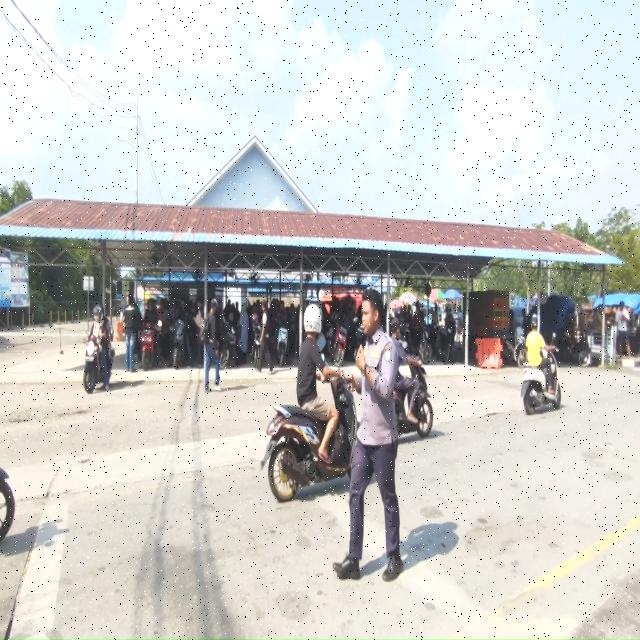Golongan II: (260, 379, 358, 502), (521, 333, 561, 415), (394, 365, 433, 438), (83, 334, 113, 394), (560, 332, 591, 367), (141, 321, 162, 372), (503, 326, 526, 368), (219, 323, 236, 369), (331, 320, 347, 367), (437, 323, 455, 364), (172, 319, 186, 369), (419, 324, 433, 365), (353, 318, 366, 362), (252, 314, 261, 368), (276, 327, 288, 366)
